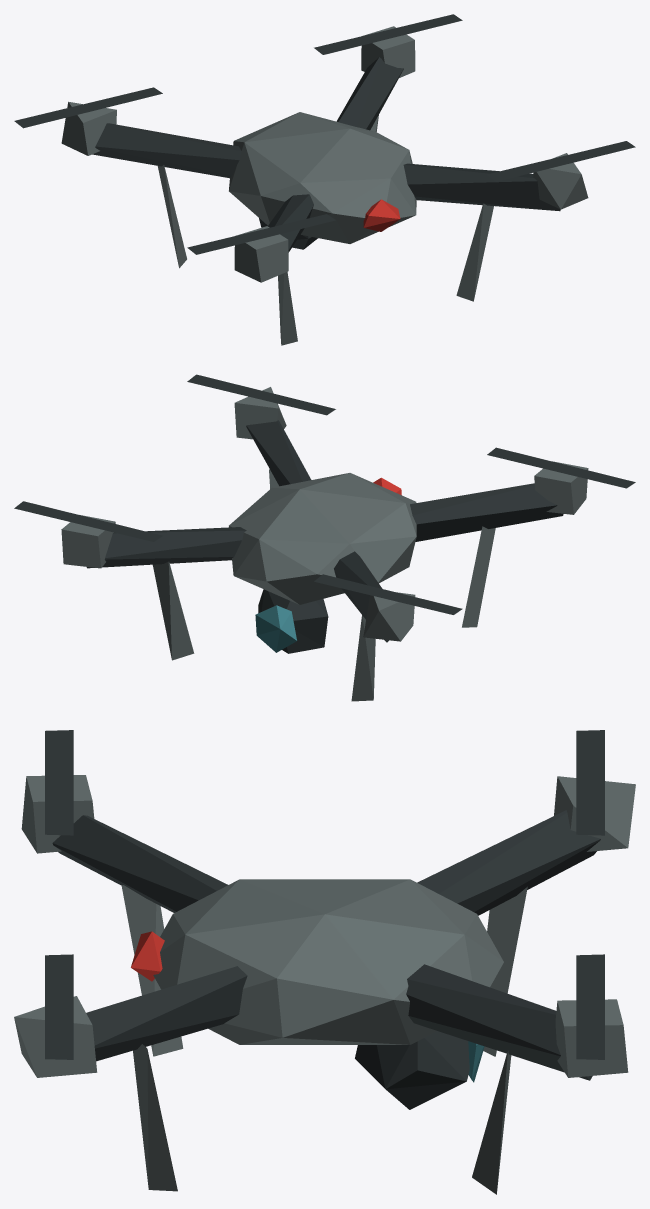
Rendered from drone_low.glb.
The picture shows the model from 3 angles, top to bottom: view 1: azimuth 30°, elevation 25°; view 2: azimuth 150°, elevation 25°; view 3: azimuth 270°, elevation 25°; orthographic projection. The views are drawn at different scales.
Parts seen in each view (by area): view 1: drone.001; view 2: drone.001; view 3: drone.001.
Boxes of the visible parts, x1,y1,x2,y2 form: drone.001: [14, 14, 635, 345]; drone.001: [14, 374, 635, 701]; drone.001: [14, 730, 635, 1194].
Bounding box in the file's own units: 1.26 × 0.4069 × 1.01.
